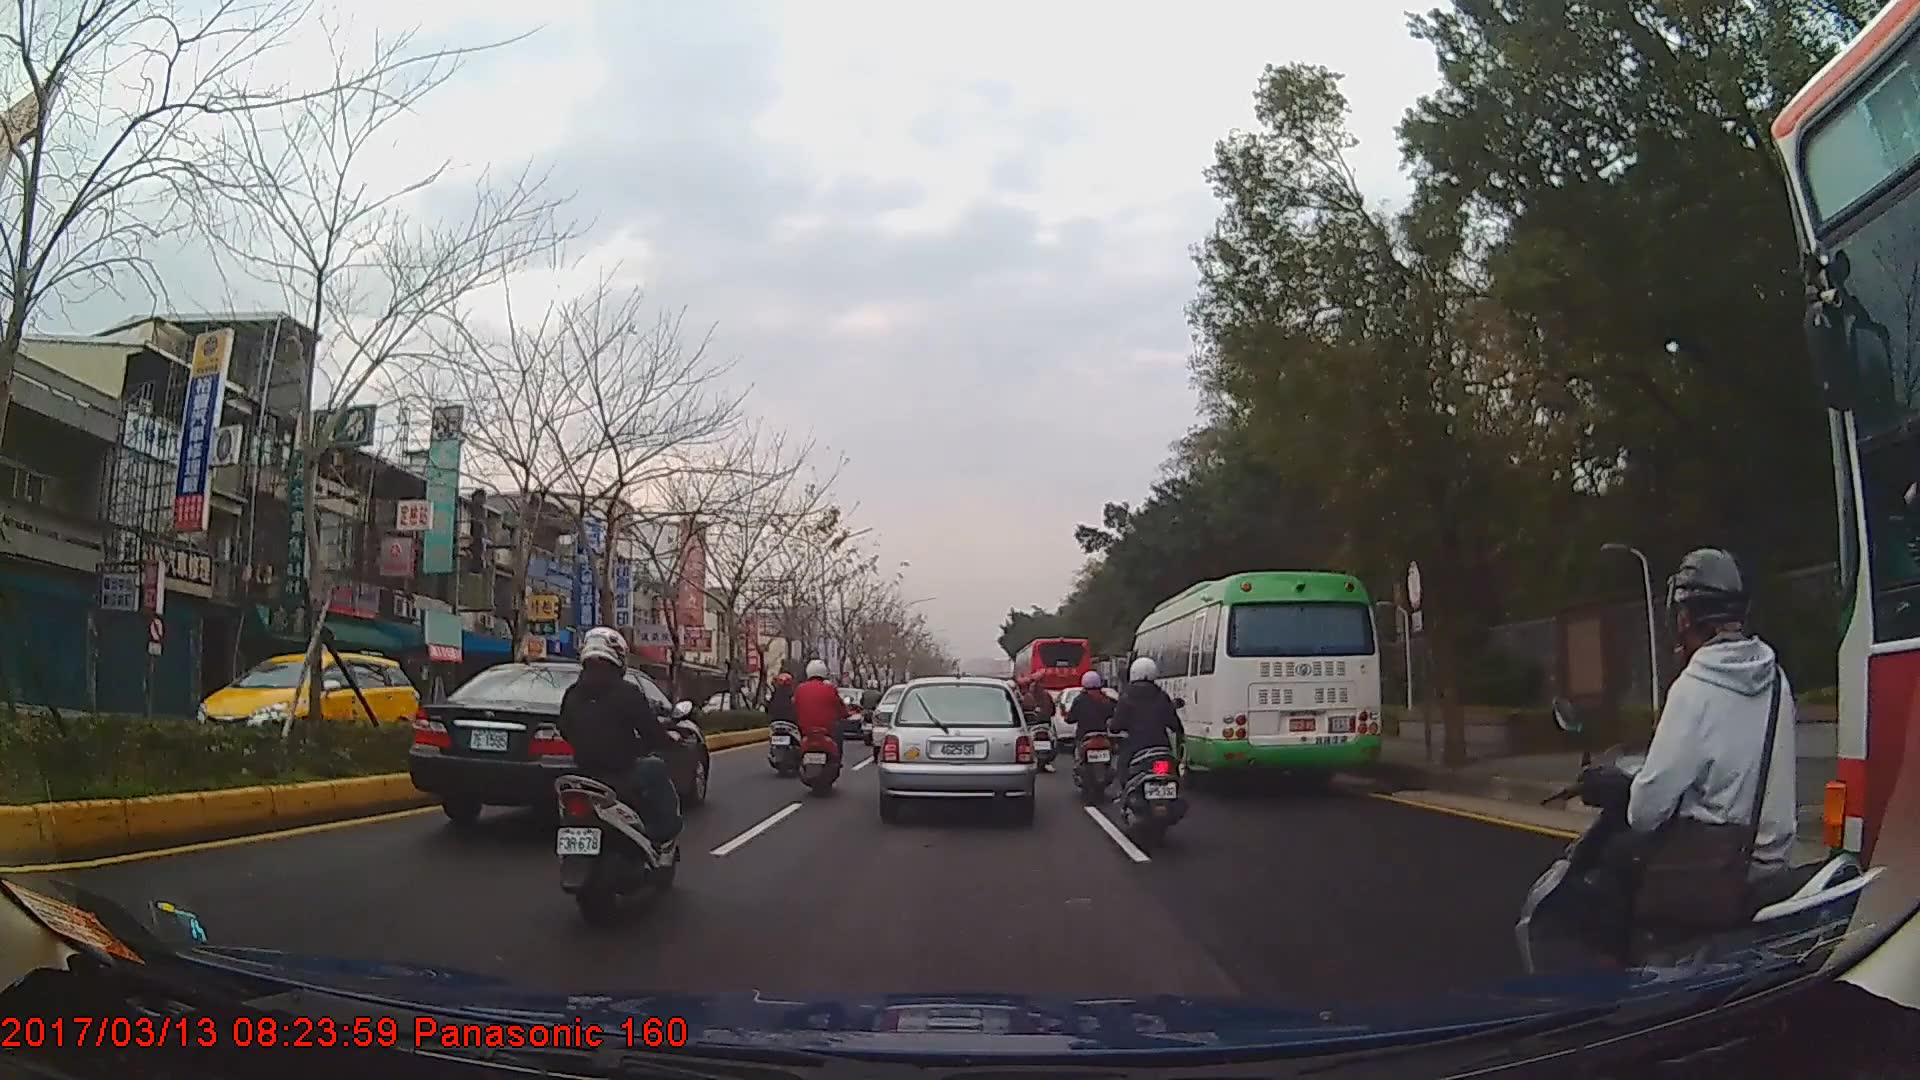rider: (1517, 542, 1878, 1013), (553, 626, 689, 921), (1113, 657, 1190, 844), (1064, 668, 1121, 803), (791, 659, 845, 799), (766, 673, 806, 778), (1016, 670, 1055, 772), (860, 679, 884, 746)
vehicle: (1124, 572, 1384, 797), (408, 660, 712, 835), (192, 634, 427, 768), (877, 675, 1034, 820), (1011, 632, 1095, 728)
